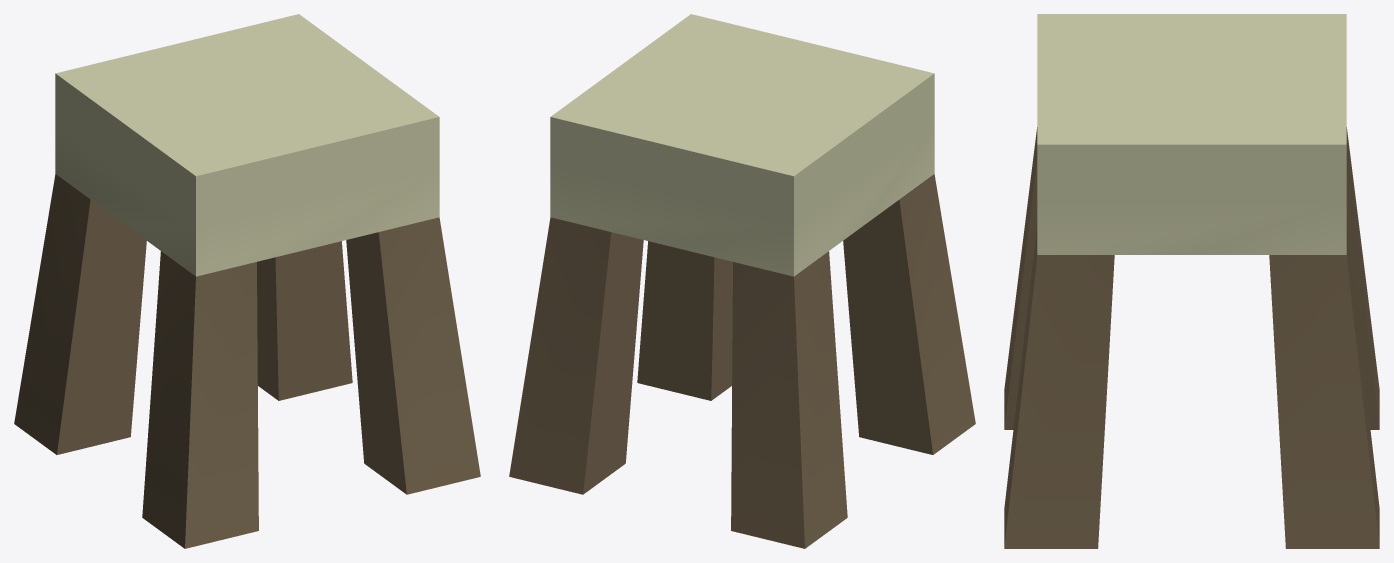
File: chair_kitchen.fbx
3 views of the same model, side by side, from view 1: azimuth 30°, elevation 25°; view 2: azimuth 150°, elevation 25°; view 3: azimuth 270°, elevation 25° (orthographic). The views are drawn at different scales.
Visible parts, largest first — view 1: chair_kitchen; view 2: chair_kitchen; view 3: chair_kitchen.
Part boxes in pixels (box(x1,y1,x2,y2)): chair_kitchen: box(14, 14, 480, 548); chair_kitchen: box(509, 14, 975, 548); chair_kitchen: box(1004, 14, 1379, 548).
Bounding box in the file's own units: 1.22 × 1.22 × 1.39.
